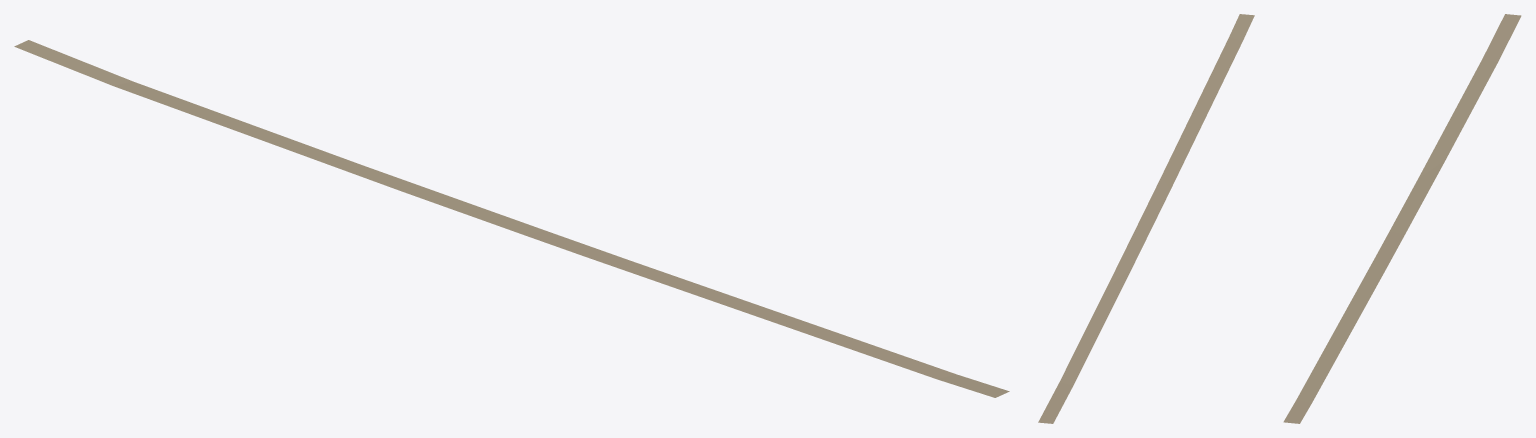
The model's file is farm_-3_14_track.glb.
3 renders of one model, left to right at view 1: azimuth 30°, elevation 25°; view 2: azimuth 150°, elevation 25°; view 3: azimuth 330°, elevation 25°, orthographic. The views are drawn at different scales.
Parts seen in each view (by area): view 1: geometry_0; view 2: geometry_0; view 3: geometry_0.
Boxes of the visible parts, left/top/right/bottom form: geometry_0: left=14, top=40, right=1009, bottom=397; geometry_0: left=1038, top=14, right=1254, bottom=423; geometry_0: left=1283, top=14, right=1521, bottom=423.
Size of the model in its own units: 63.84 by 4.61 by 192.
